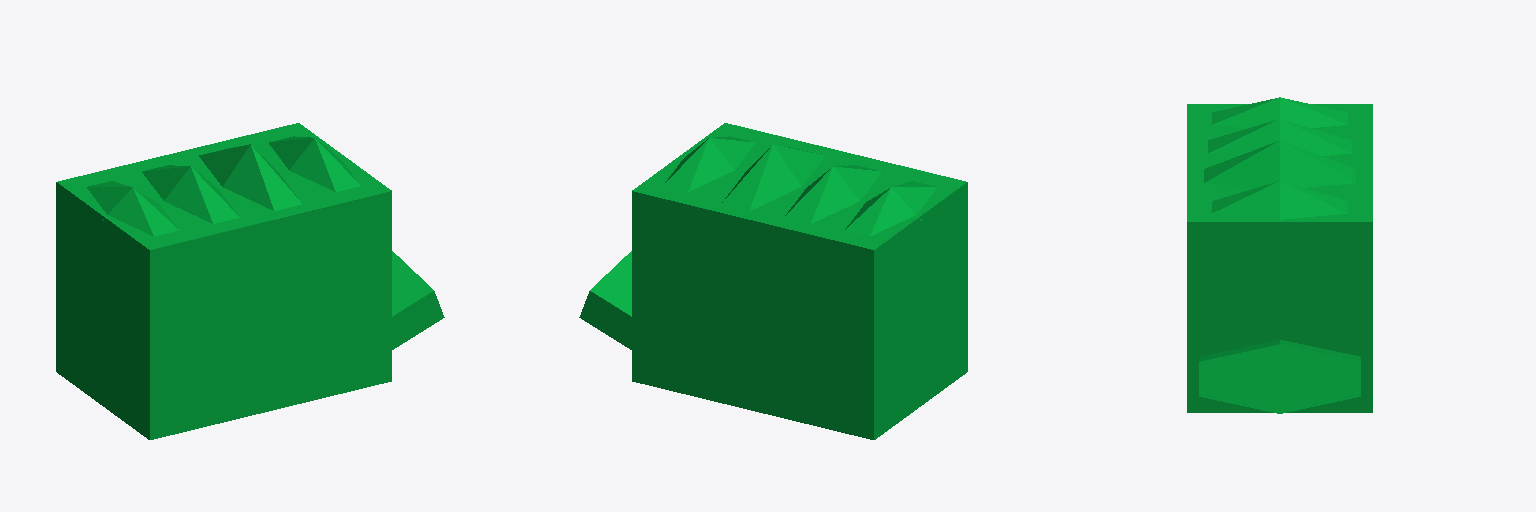
The model's file is Rock.obj.
3 renders of one model, left to right at view 1: azimuth 30°, elevation 25°; view 2: azimuth 150°, elevation 25°; view 3: azimuth 270°, elevation 25°, orthographic.
Parts seen in each view (by area): view 1: Rock; view 2: Rock; view 3: Rock.
Boxes of the visible parts, <box> form: Rock: <box>56,123,444,439</box>; Rock: <box>579,123,967,439</box>; Rock: <box>1187,97,1372,413</box>.
Size of the model in its own units: 0.4745 by 0.3341 by 0.25.